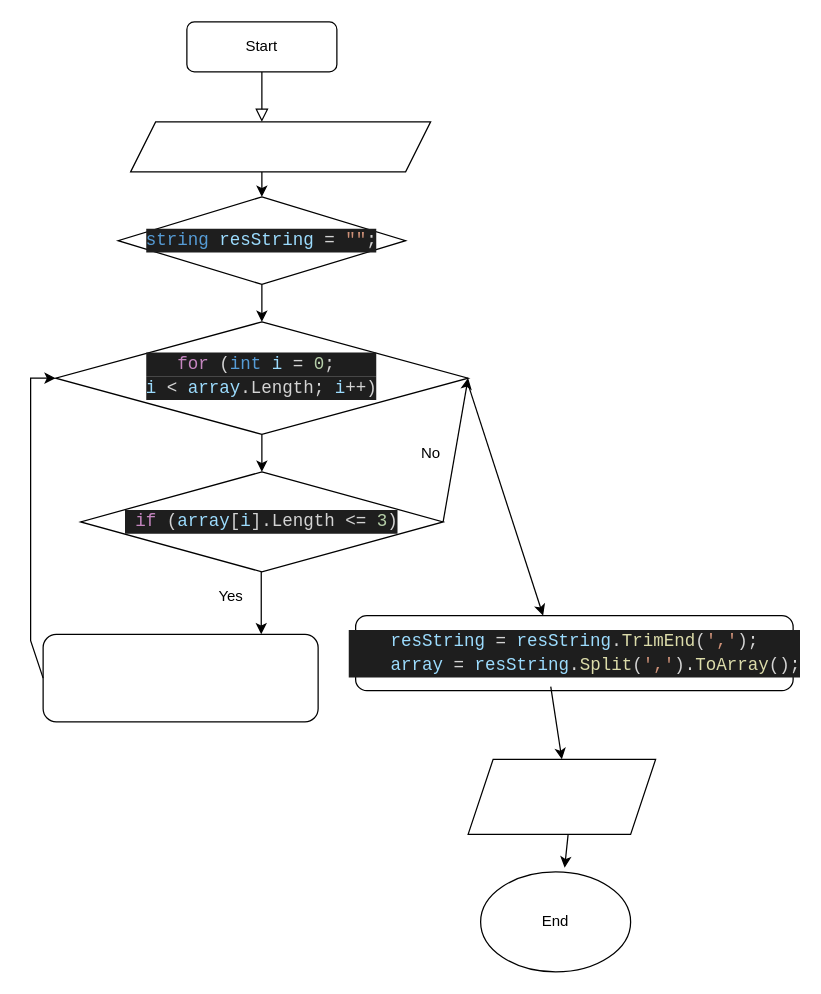
Image size: 821x994. Some labels were removed from this diagram. The shapes that lost their labels are listed below. From the top down, each one's box as (x1, y1, x2, y2) in pixels, then its label:
(129, 121, 431, 172): string [] array
(42, 633, 318, 722): resString = resString + array [ i ] + "," ;
(467, 758, 656, 834): return array ;
